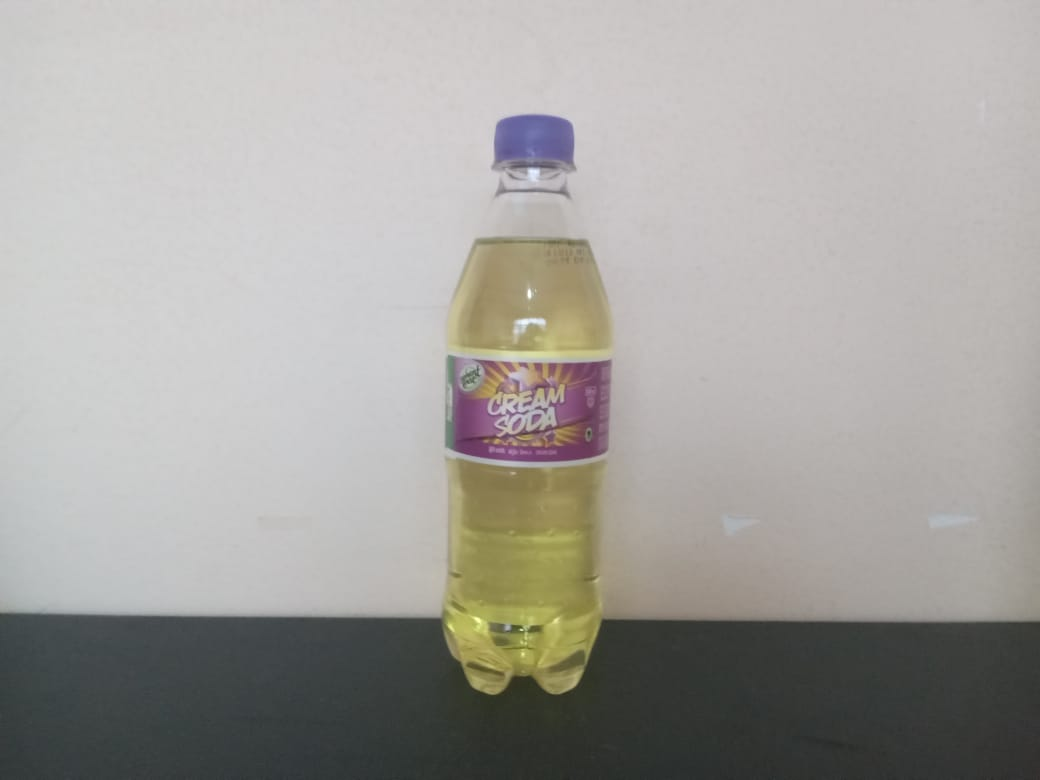S: (434, 108, 620, 709)
